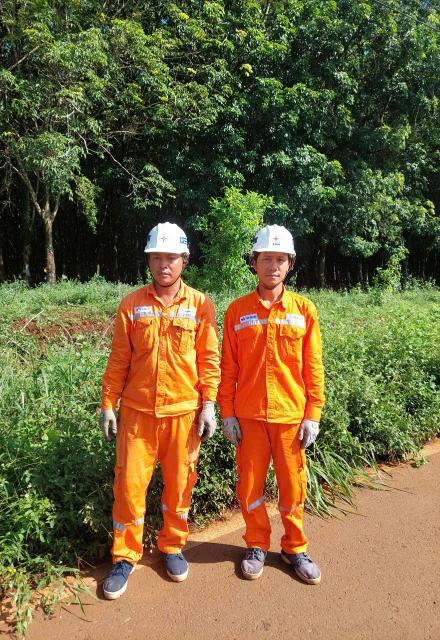gloves: (190, 398, 221, 443), (94, 400, 124, 444), (293, 413, 323, 453), (219, 415, 250, 451)
helmet: (138, 212, 197, 263), (247, 220, 306, 259)
shoes: (278, 538, 325, 588), (151, 540, 197, 590), (98, 549, 136, 605), (231, 539, 272, 584)
